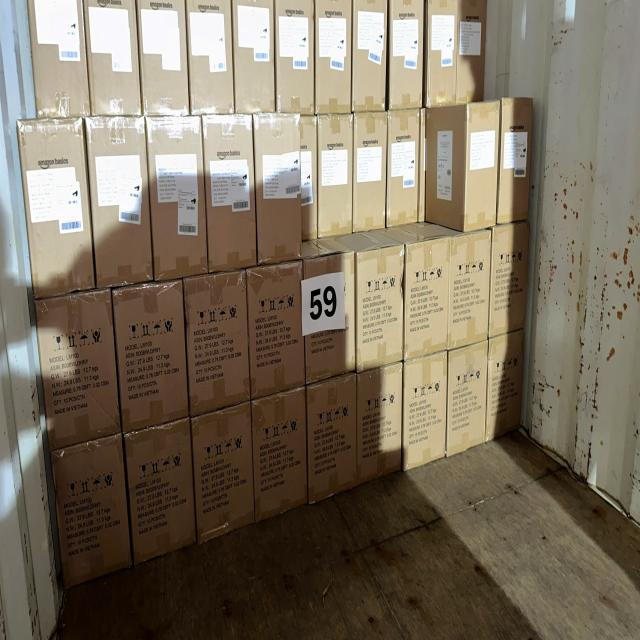Carton: (36, 287, 122, 440), (20, 122, 92, 303), (51, 433, 130, 581), (90, 118, 154, 289), (110, 283, 187, 424), (146, 117, 206, 281), (124, 421, 194, 558), (257, 114, 318, 265), (187, 274, 252, 413), (191, 406, 254, 535), (205, 119, 256, 274), (247, 264, 306, 392), (301, 250, 353, 380), (254, 394, 309, 516), (31, 0, 88, 116), (88, 2, 143, 118), (308, 376, 359, 498), (138, 2, 188, 117), (353, 245, 402, 362), (404, 235, 449, 354), (190, 1, 236, 116), (354, 368, 400, 480), (424, 106, 464, 234), (235, 0, 277, 114), (403, 357, 447, 465), (275, 0, 316, 115), (452, 230, 492, 347), (446, 342, 486, 453), (316, 0, 354, 114), (468, 104, 501, 232), (320, 116, 354, 239), (490, 224, 528, 332), (353, 113, 387, 232), (385, 110, 419, 228), (352, 0, 387, 111), (386, 0, 422, 107), (500, 99, 530, 225), (487, 334, 524, 436), (425, 0, 460, 103), (459, 2, 486, 106)
